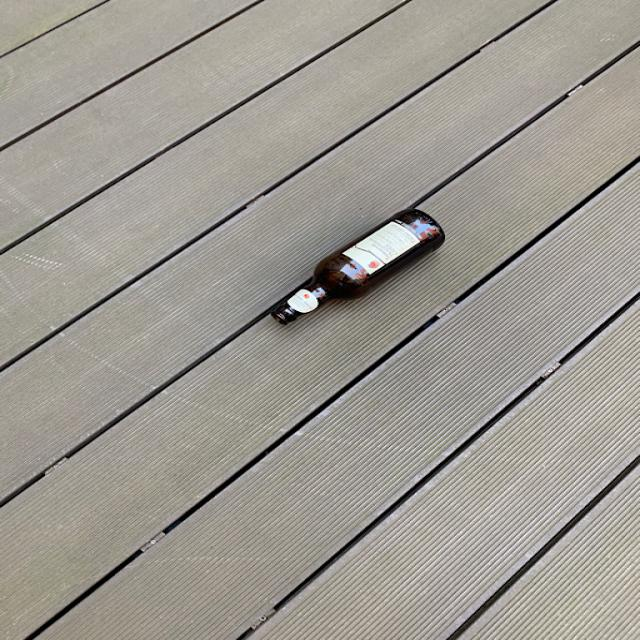litter: (263, 206, 447, 336)
